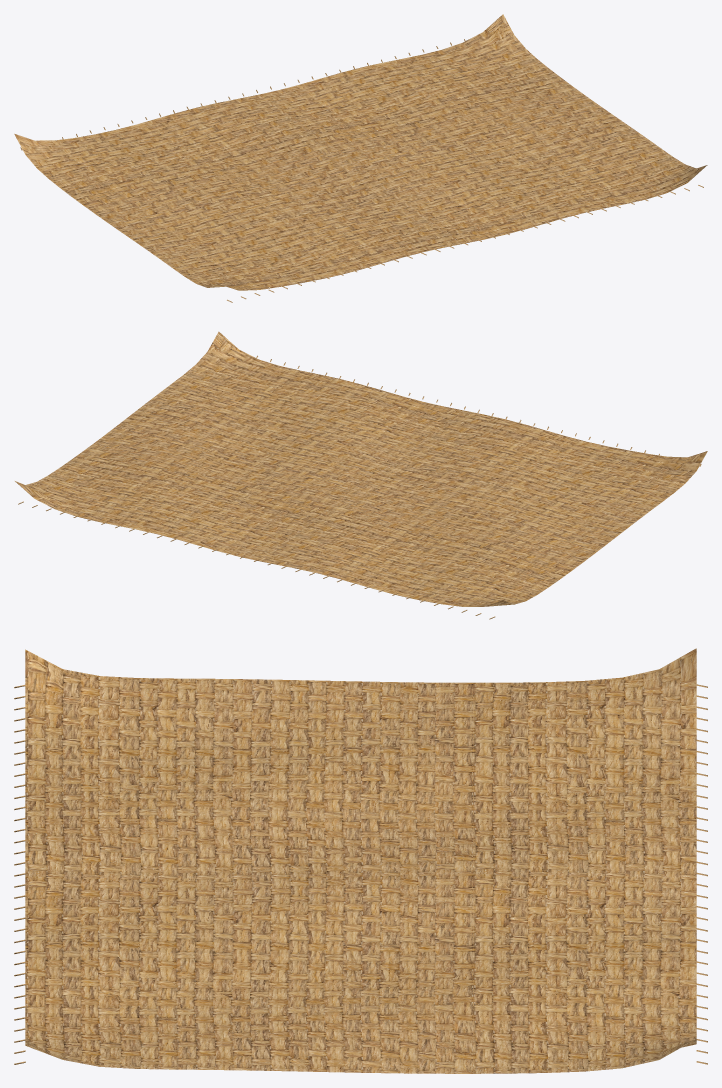
The model's file is prop_pati.glb.
3 views of the same model, one above another, from view 1: azimuth 30°, elevation 25°; view 2: azimuth 150°, elevation 25°; view 3: azimuth 270°, elevation 25° (orthographic). The views are drawn at different scales.
Visible parts, largest first — view 1: prop_pati; view 2: prop_pati; view 3: prop_pati.
Boxes of the visible parts, x1,y1,x2,y2 form: prop_pati: (14, 14, 707, 302); prop_pati: (15, 331, 707, 619); prop_pati: (14, 648, 707, 1073).
Bounding box in the file's own units: 1.2 × 0.05 × 0.9.
1 material, 1 textured.
